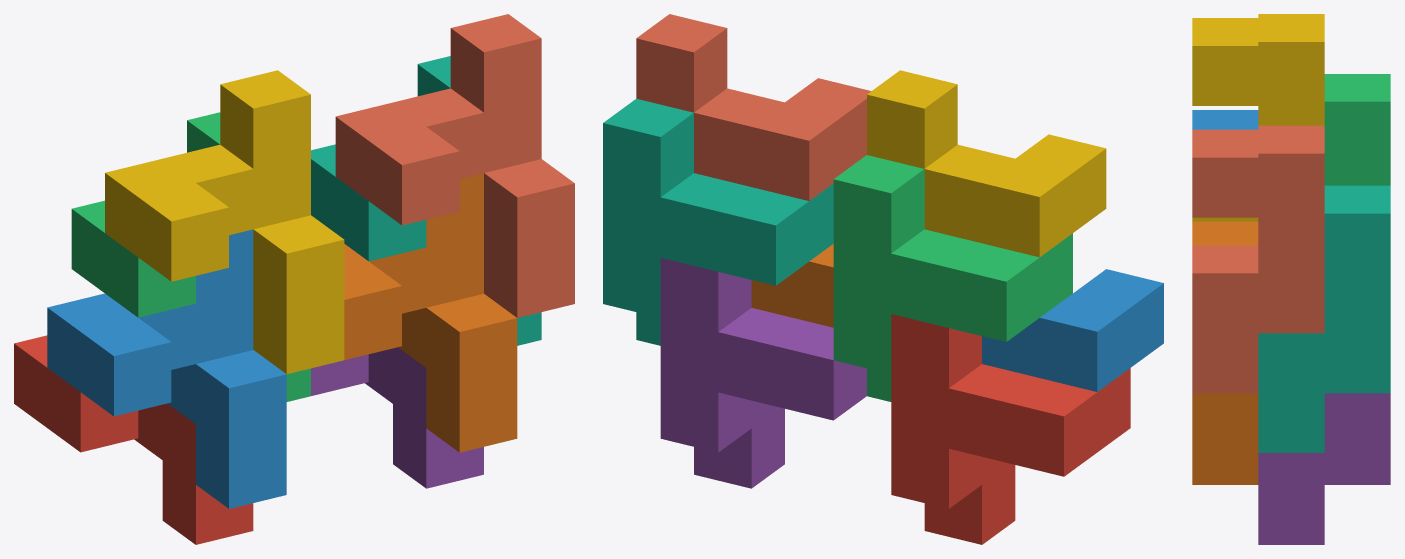
File: tiling.obj
3 renders of one model, left to right at view 1: azimuth 30°, elevation 25°; view 2: azimuth 150°, elevation 25°; view 3: azimuth 270°, elevation 25°, orthographic.
Visible parts, largest first — view 1: copy_1_domain_8, copy_1_domain_4, copy_1_domain_2, copy_1_domain_6, copy_1_domain_1, copy_1_domain_5, copy_1_domain_3, copy_1_domain_7; view 2: copy_1_domain_1, copy_1_domain_3, copy_1_domain_5, copy_1_domain_7, copy_1_domain_4, copy_1_domain_8, copy_1_domain_2, copy_1_domain_6; view 3: copy_1_domain_8, copy_1_domain_7, copy_1_domain_4, copy_1_domain_5, copy_1_domain_6, copy_1_domain_3, copy_1_domain_2.
Part boxes in pixels (<box>): copy_1_domain_8: <box>335,14,574,317</box>; copy_1_domain_4: <box>105,70,344,373</box>; copy_1_domain_2: <box>47,229,286,508</box>; copy_1_domain_6: <box>344,173,517,452</box>; copy_1_domain_1: <box>14,335,253,544</box>; copy_1_domain_5: <box>311,347,483,488</box>; copy_1_domain_3: <box>71,112,310,401</box>; copy_1_domain_7: <box>311,56,541,345</box>; copy_1_domain_1: <box>891,314,1130,544</box>; copy_1_domain_3: <box>833,155,1072,401</box>; copy_1_domain_5: <box>660,258,866,488</box>; copy_1_domain_7: <box>603,98,833,345</box>; copy_1_domain_4: <box>867,70,1106,257</box>; copy_1_domain_8: <box>636,14,871,200</box>; copy_1_domain_2: <box>982,269,1163,391</box>; copy_1_domain_6: <box>751,244,833,327</box>; copy_1_domain_8: <box>1192,125,1324,393</box>; copy_1_domain_7: <box>1258,185,1390,452</box>; copy_1_domain_4: <box>1192,14,1324,221</box>; copy_1_domain_5: <box>1258,393,1390,544</box>; copy_1_domain_6: <box>1192,221,1258,484</box>; copy_1_domain_3: <box>1324,74,1390,185</box>; copy_1_domain_2: <box>1192,110,1258,129</box>.
Bounding box in the file's own units: 8 × 7 × 3.
